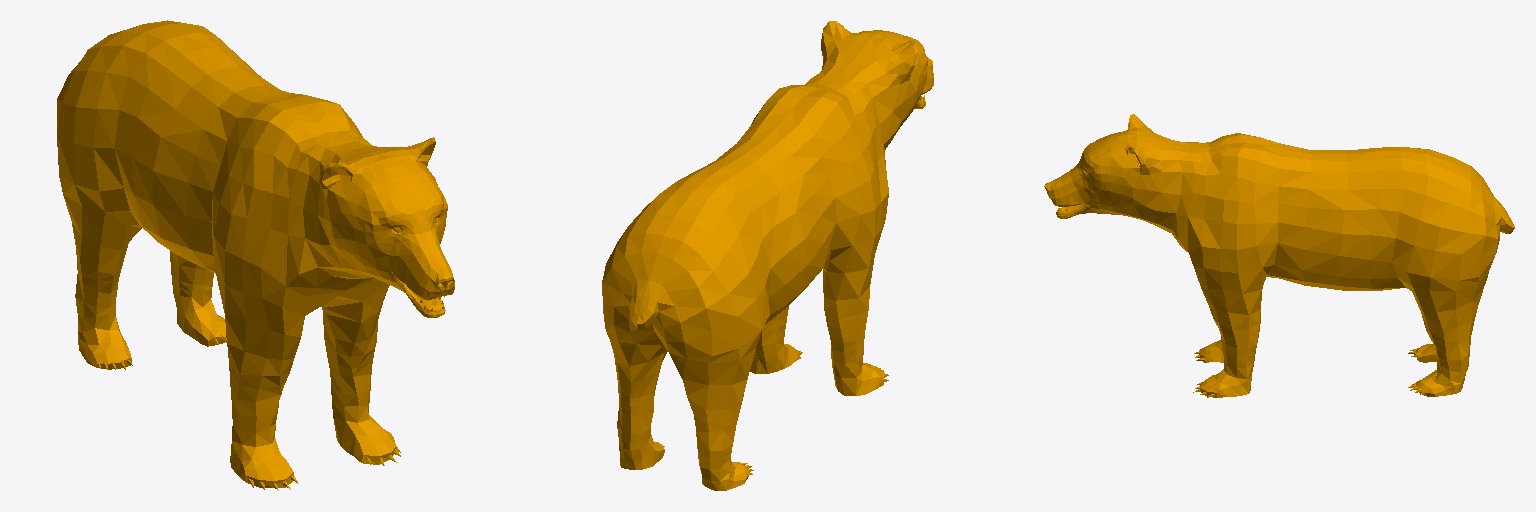
URDF robot description (mesh_object):
<?xml version="1.0" ?>
<robot name="mesh_object">
  <link name="base">
    <visual>
      <geometry>
        <mesh filename="grizzly_3.obj" scale="1 1 1"/>
      </geometry>
    </visual>
    <collision>
      <geometry>
        <mesh filename="grizzly_3.obj" scale="1 1 1"/>
      </geometry>
    </collision>
    <inertial>
      <origin xyz="0.000018 0.040229 0.069513" rpy="0 0 0"/>
      <mass value="0.5"/>
      <inertia ixx="0.01" iyy="0.01" izz="0.01" ixy="0" ixz="0" iyz="0"/>
    </inertial>
  </link>
</robot>

--- Facts derived from the render (not from the file) ---
The picture shows the robot from 3 angles, left to right: view 1: azimuth 30°, elevation 25°; view 2: azimuth 150°, elevation 25°; view 3: azimuth 270°, elevation 25°; orthographic projection.
Robot: mesh_object — 1 links, 0 joints (none); root link base; default pose: all joints at 0.
Visible links, largest first — view 1: base; view 2: base; view 3: base.
Boxes of the visible links, x1,y1,x2,y2 form: base: (57,20,454,490); base: (602,21,933,490); base: (1044,114,1514,397).
Size in the robot's own frame: 0.0698 by 0.2427 by 0.139 metres.
1 mesh visuals loaded from 1 distinct referenced files (1 OBJ).
